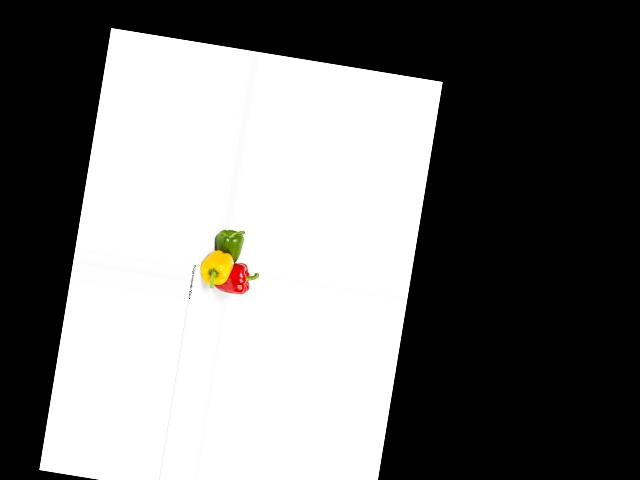bell_pepper: (215, 259, 260, 300)
